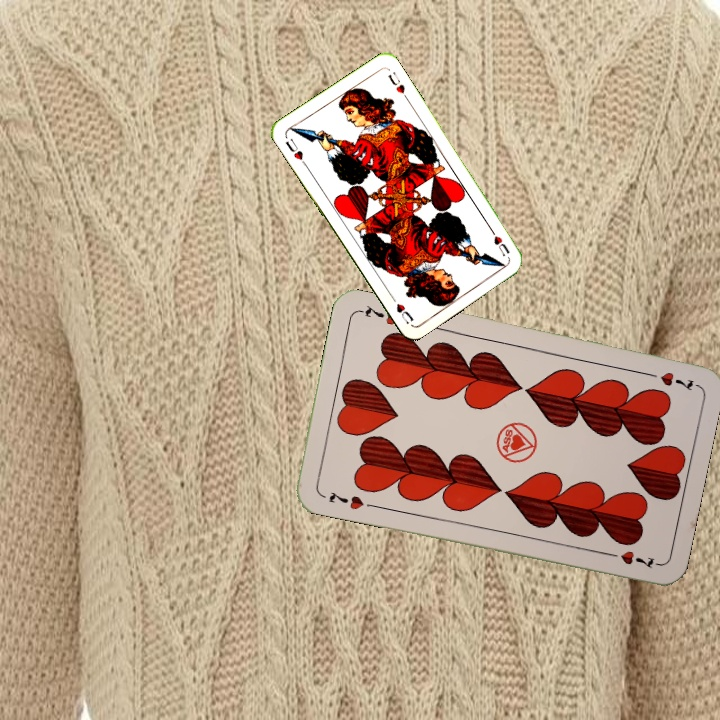H7: (640, 367, 699, 394), (325, 487, 366, 512)
HU: (281, 134, 309, 169), (490, 232, 512, 259)
